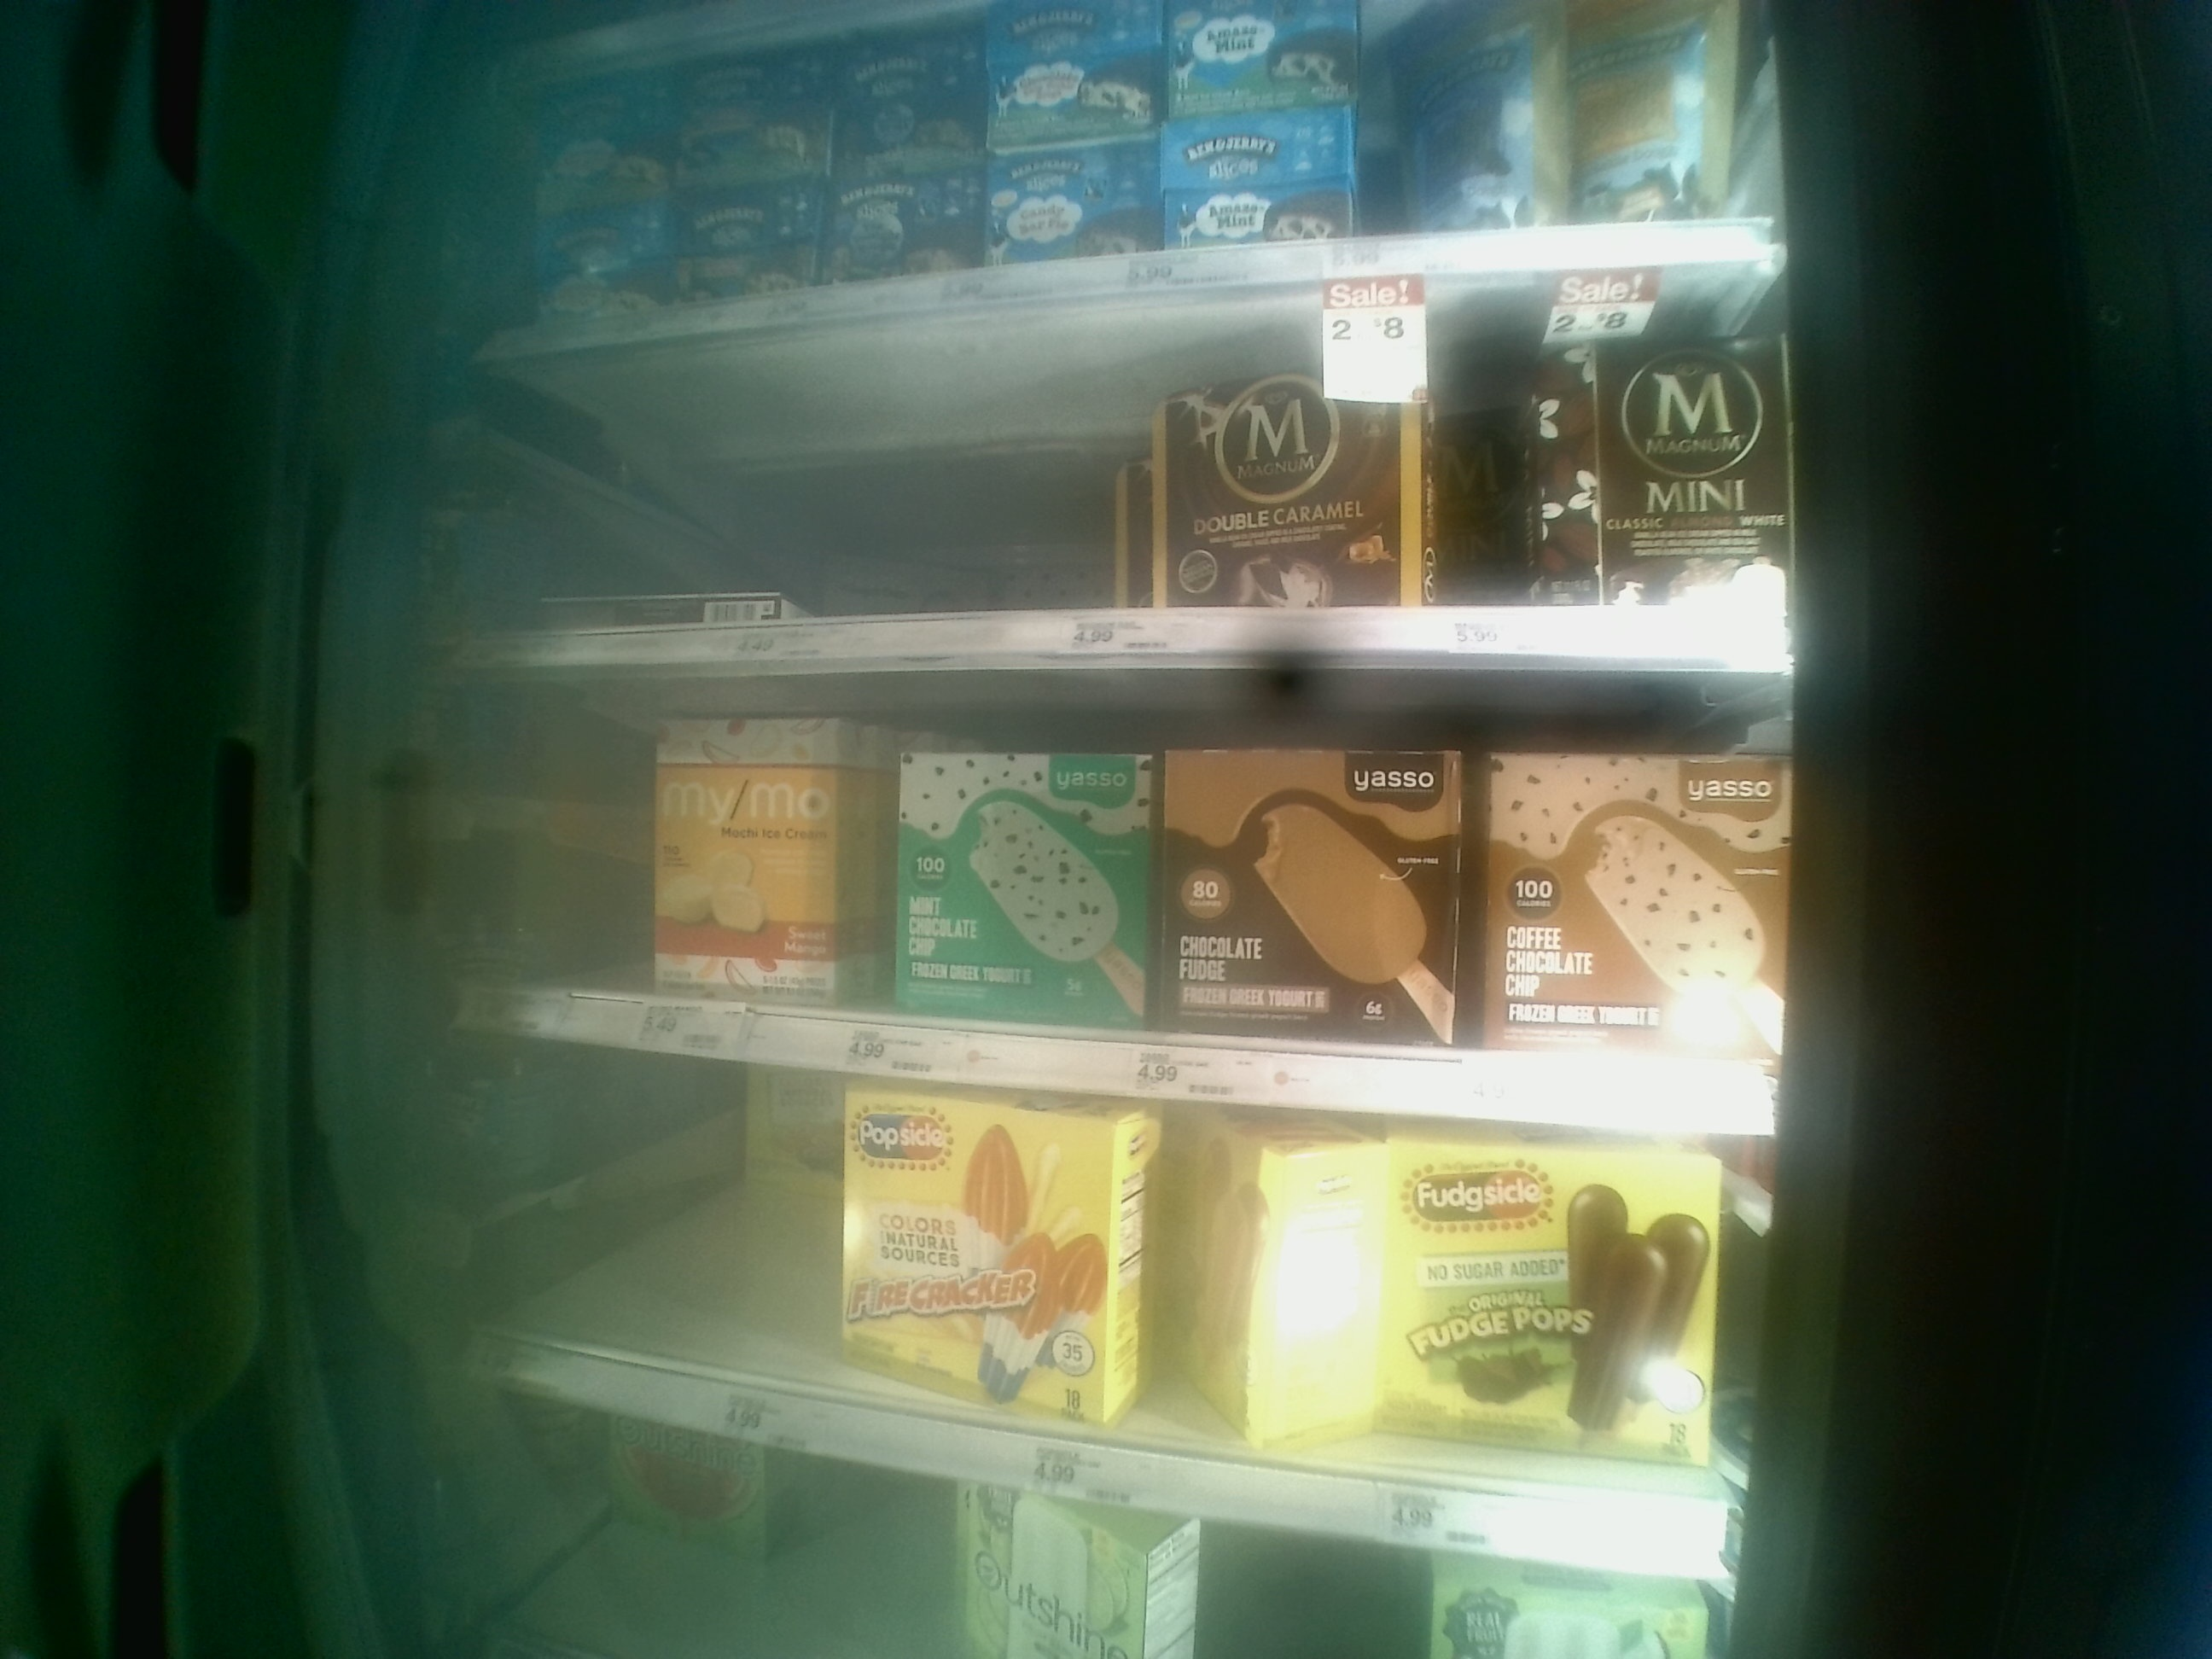shelf: (449, 1040, 1743, 1582), (472, 671, 1771, 1145), (469, 277, 1792, 667)
